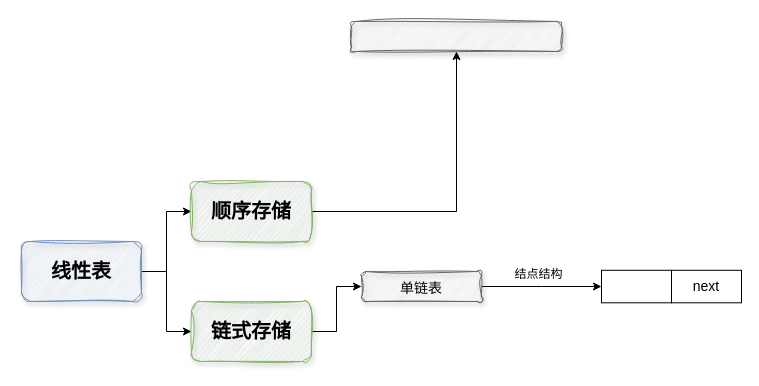
Some shapes in this 759 by 386 pixel diagram are drawn without their labels. Here are the shapes that lost their labels. From the top down, the centre of each, then its label:
pixel 457 37: 动态分配并不是链式存储
pixel 636 286: data
